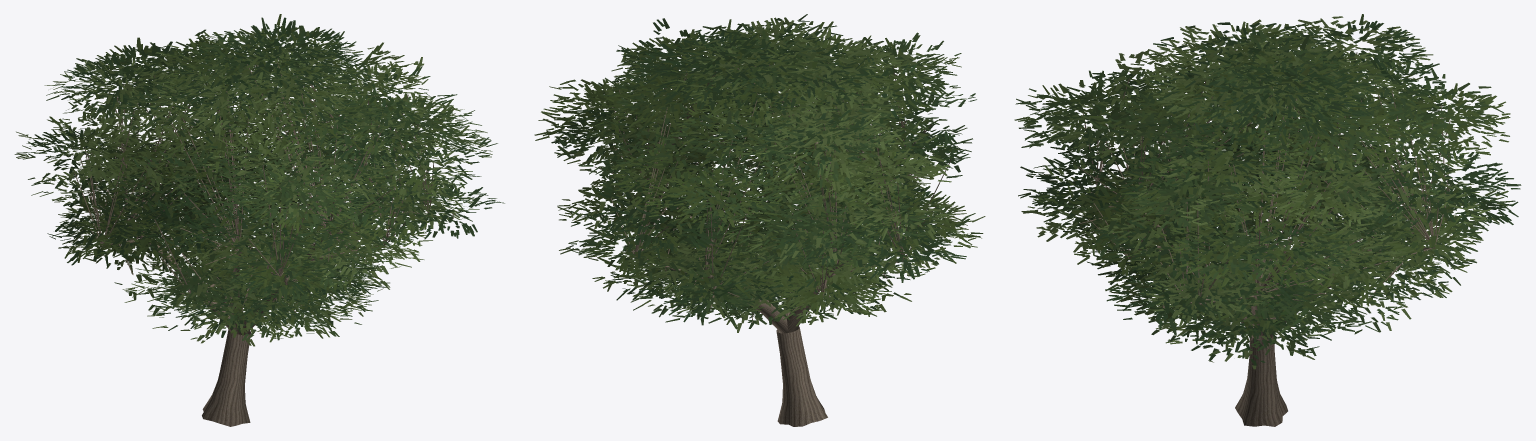
The model's file is mcyp2.glb.
3 renders of one model, left to right at view 1: azimuth 30°, elevation 25°; view 2: azimuth 150°, elevation 25°; view 3: azimuth 270°, elevation 25°, orthographic. The views are drawn at different scales.
Visible parts, largest first — view 1: mcyp2_lod0_1, mcyp2_lod0_0; view 2: mcyp2_lod0_1, mcyp2_lod0_0; view 3: mcyp2_lod0_1, mcyp2_lod0_0.
Part boxes in pixels (x1,y1,x2,y2): mcyp2_lod0_1: [14, 14, 504, 346]; mcyp2_lod0_0: [74, 58, 453, 426]; mcyp2_lod0_1: [534, 14, 985, 332]; mcyp2_lod0_0: [595, 55, 951, 426]; mcyp2_lod0_1: [1014, 14, 1521, 369]; mcyp2_lod0_0: [1077, 49, 1473, 426].
Size of what is drawn, in the model's own units: 22.45 by 18.98 by 22.7.
Materials: 2 (1 with a texture image).
